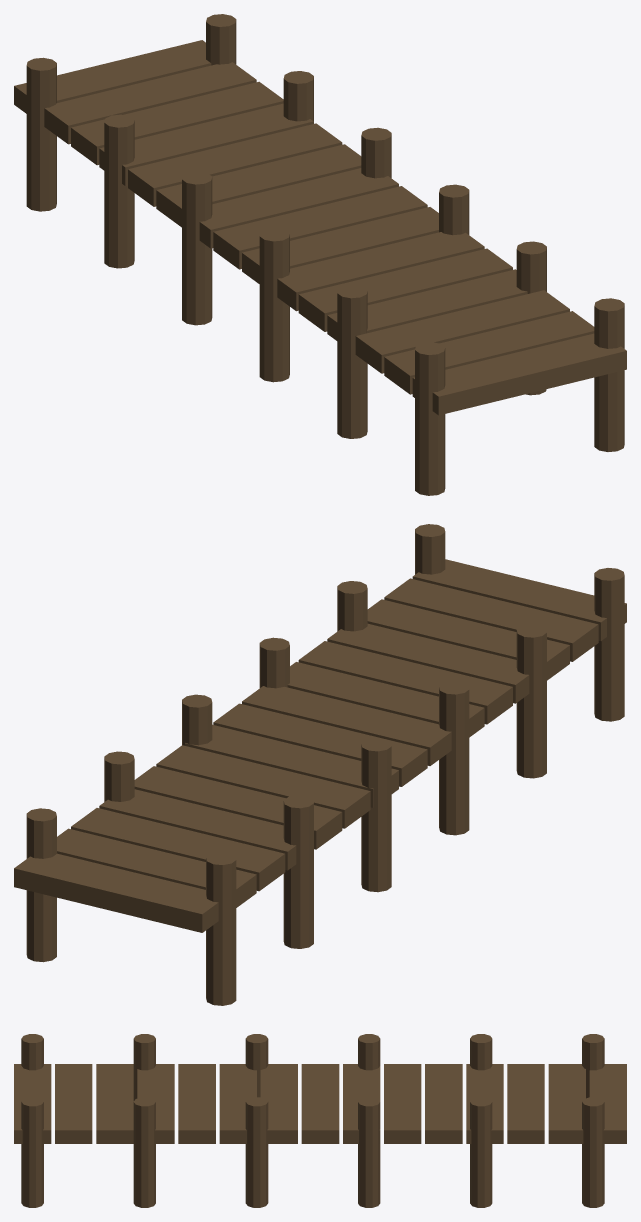
The model's file is pire.glb.
3 views of the same model, one above another, from view 1: azimuth 30°, elevation 25°; view 2: azimuth 150°, elevation 25°; view 3: azimuth 270°, elevation 25° (orthographic). The views are drawn at different scales.
Parts seen in each view (by area): view 1: Cube; view 2: Cube; view 3: Cube.
Boxes of the visible parts, x1,y1,x2,y2 form: Cube: [14, 14, 626, 495]; Cube: [14, 524, 626, 1005]; Cube: [14, 1034, 626, 1207].
Size of the model in its own units: 4.57 by 3 by 16.4.
